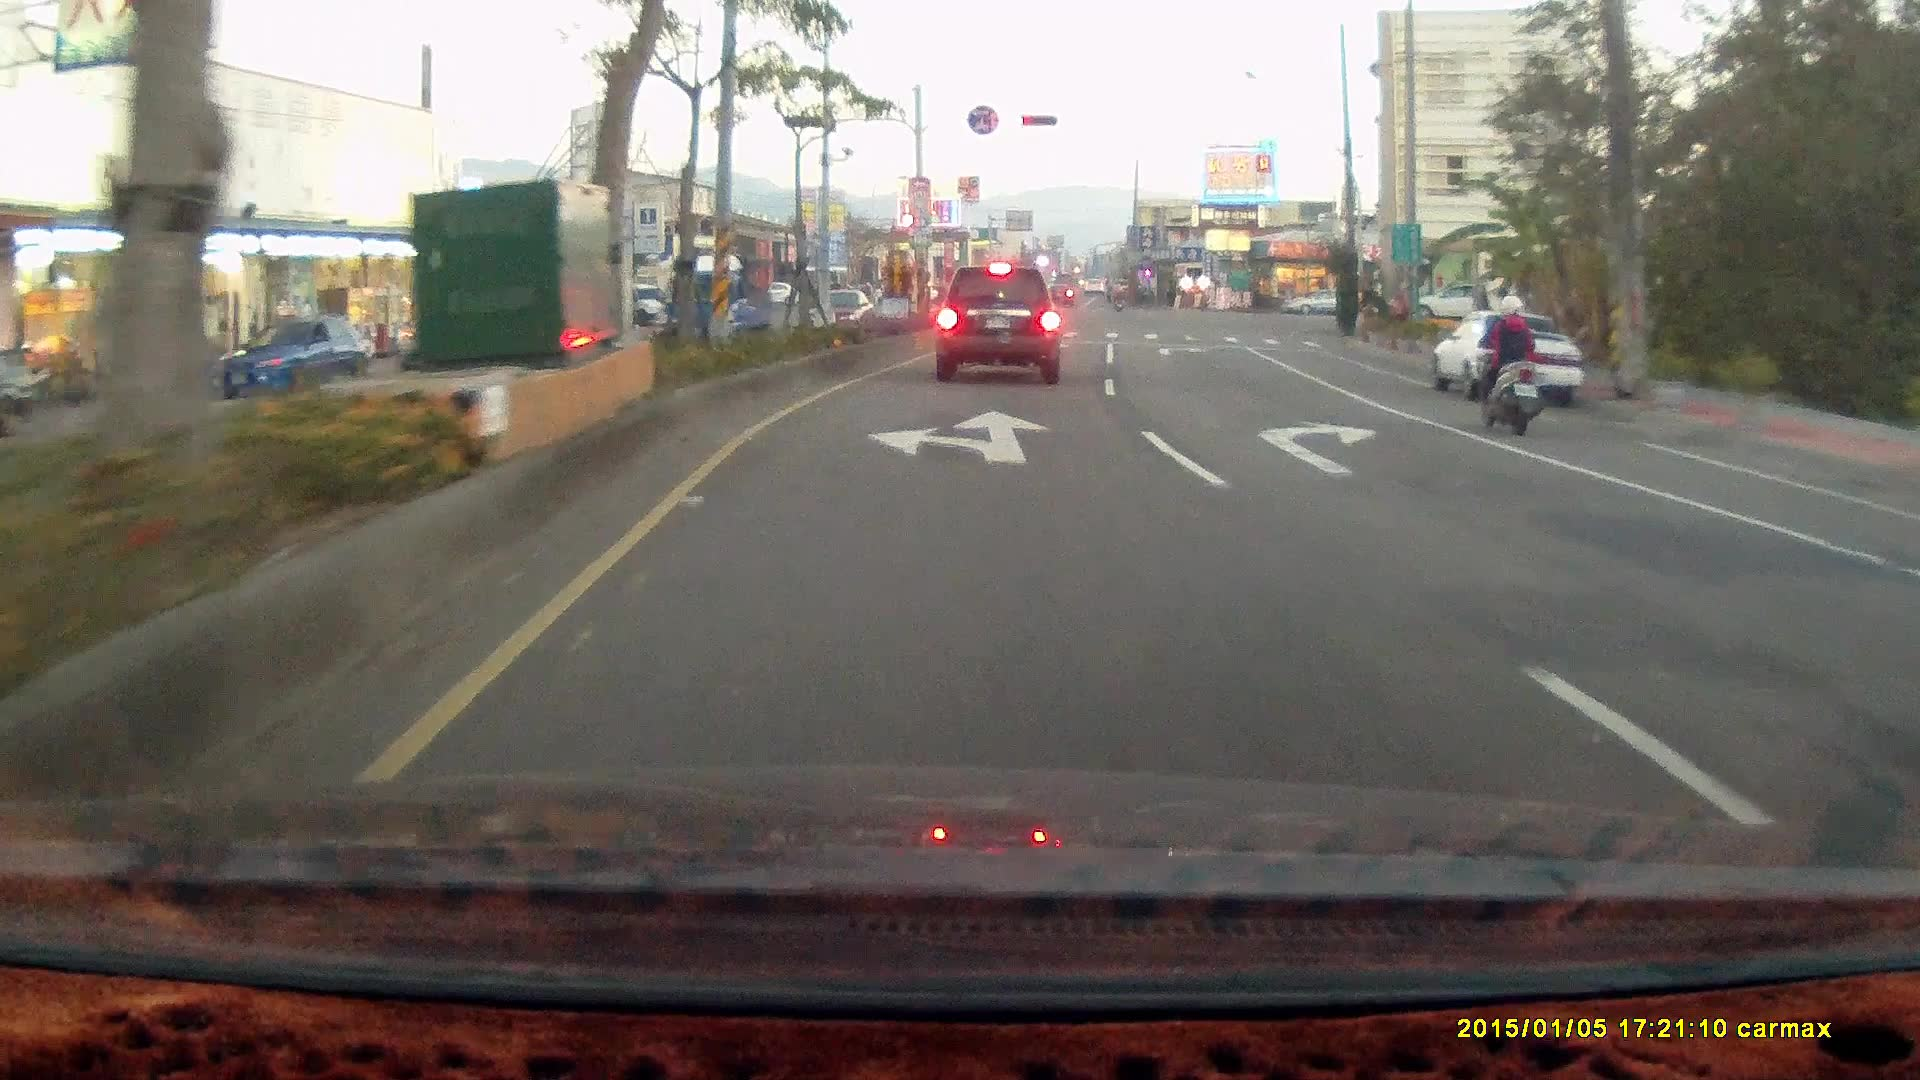rider: (1466, 296, 1544, 439)
vehicle: (934, 266, 1061, 386), (1428, 312, 1585, 410), (1438, 316, 1586, 407), (210, 315, 370, 394), (653, 253, 782, 341), (1896, 493, 1920, 836), (1883, 528, 1920, 690), (1408, 282, 1504, 326), (1282, 289, 1356, 316)
